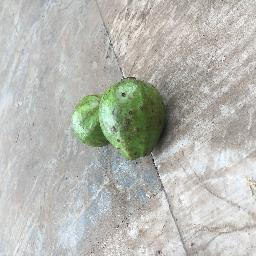Good_guava: (74, 77, 162, 162)
